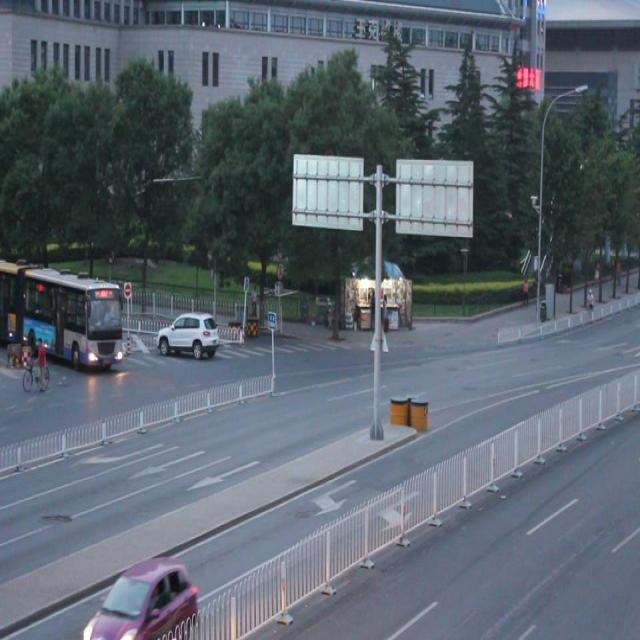car: (84, 554, 198, 640), (156, 309, 218, 363)
van: (1, 258, 122, 371)
